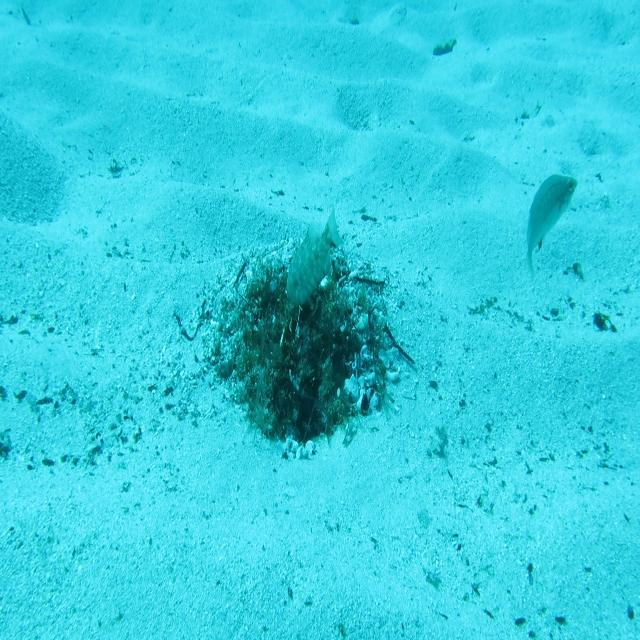NIP_CORE: (284, 206, 346, 314)
core_nest: (273, 287, 325, 328)
female: (519, 168, 578, 290)
nest: (199, 227, 408, 466)
vegetation: (430, 35, 458, 58)
